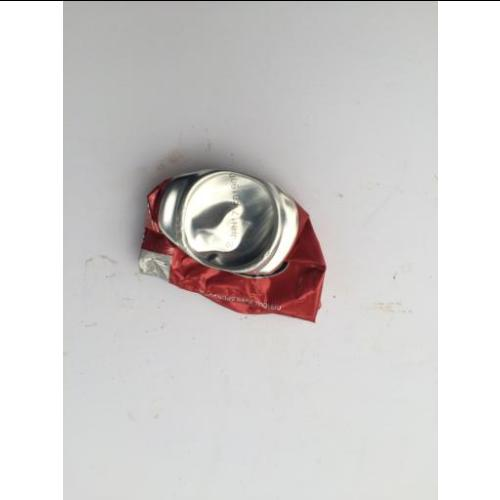metal: (142, 169, 328, 324)
